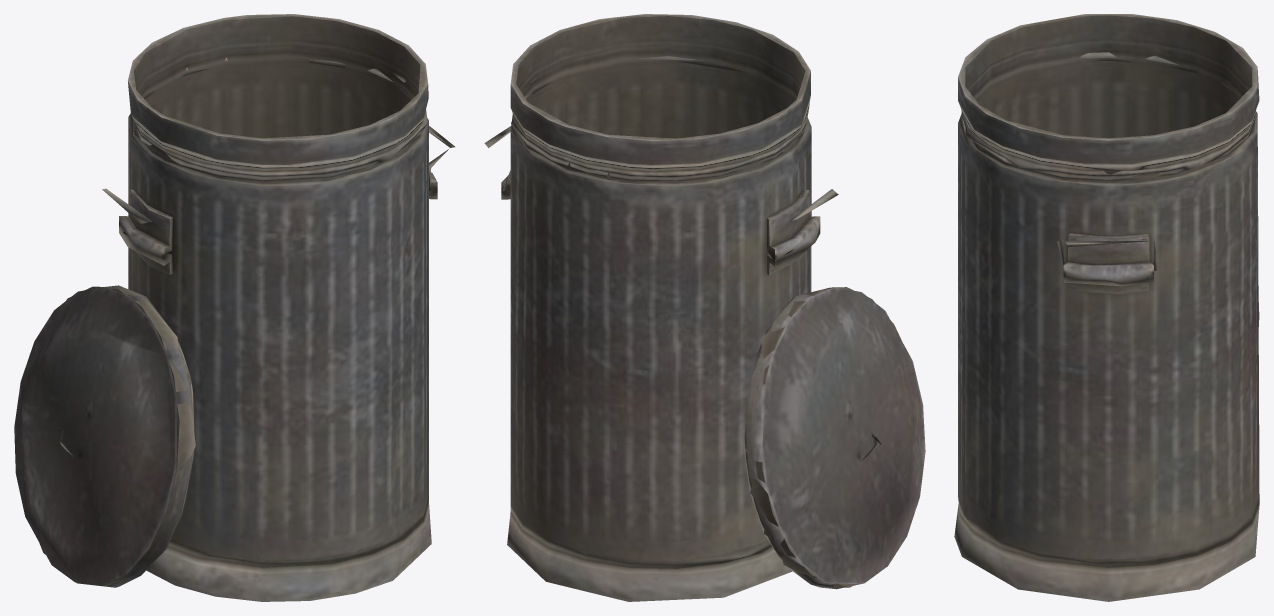
File: metal_trash_can.glb
3 views of the same model, side by side, from view 1: azimuth 30°, elevation 25°; view 2: azimuth 150°, elevation 25°; view 3: azimuth 270°, elevation 25° (orthographic).
Parts seen in each view (by area): view 1: metal_trash_can_handle_left; view 2: metal_trash_can_handle_left; view 3: metal_trash_can_handle_left.
Boxes of the visible parts, x1=… form: metal_trash_can_handle_left: x1=14, y1=14, x2=454, y2=601; metal_trash_can_handle_left: x1=484, y1=14, x2=925, y2=601; metal_trash_can_handle_left: x1=954, y1=14, x2=1259, y2=601.
Bounding box in the file's own units: 0.777 × 0.9063 × 0.5452.
Materials: 1 (1 with a texture image).
